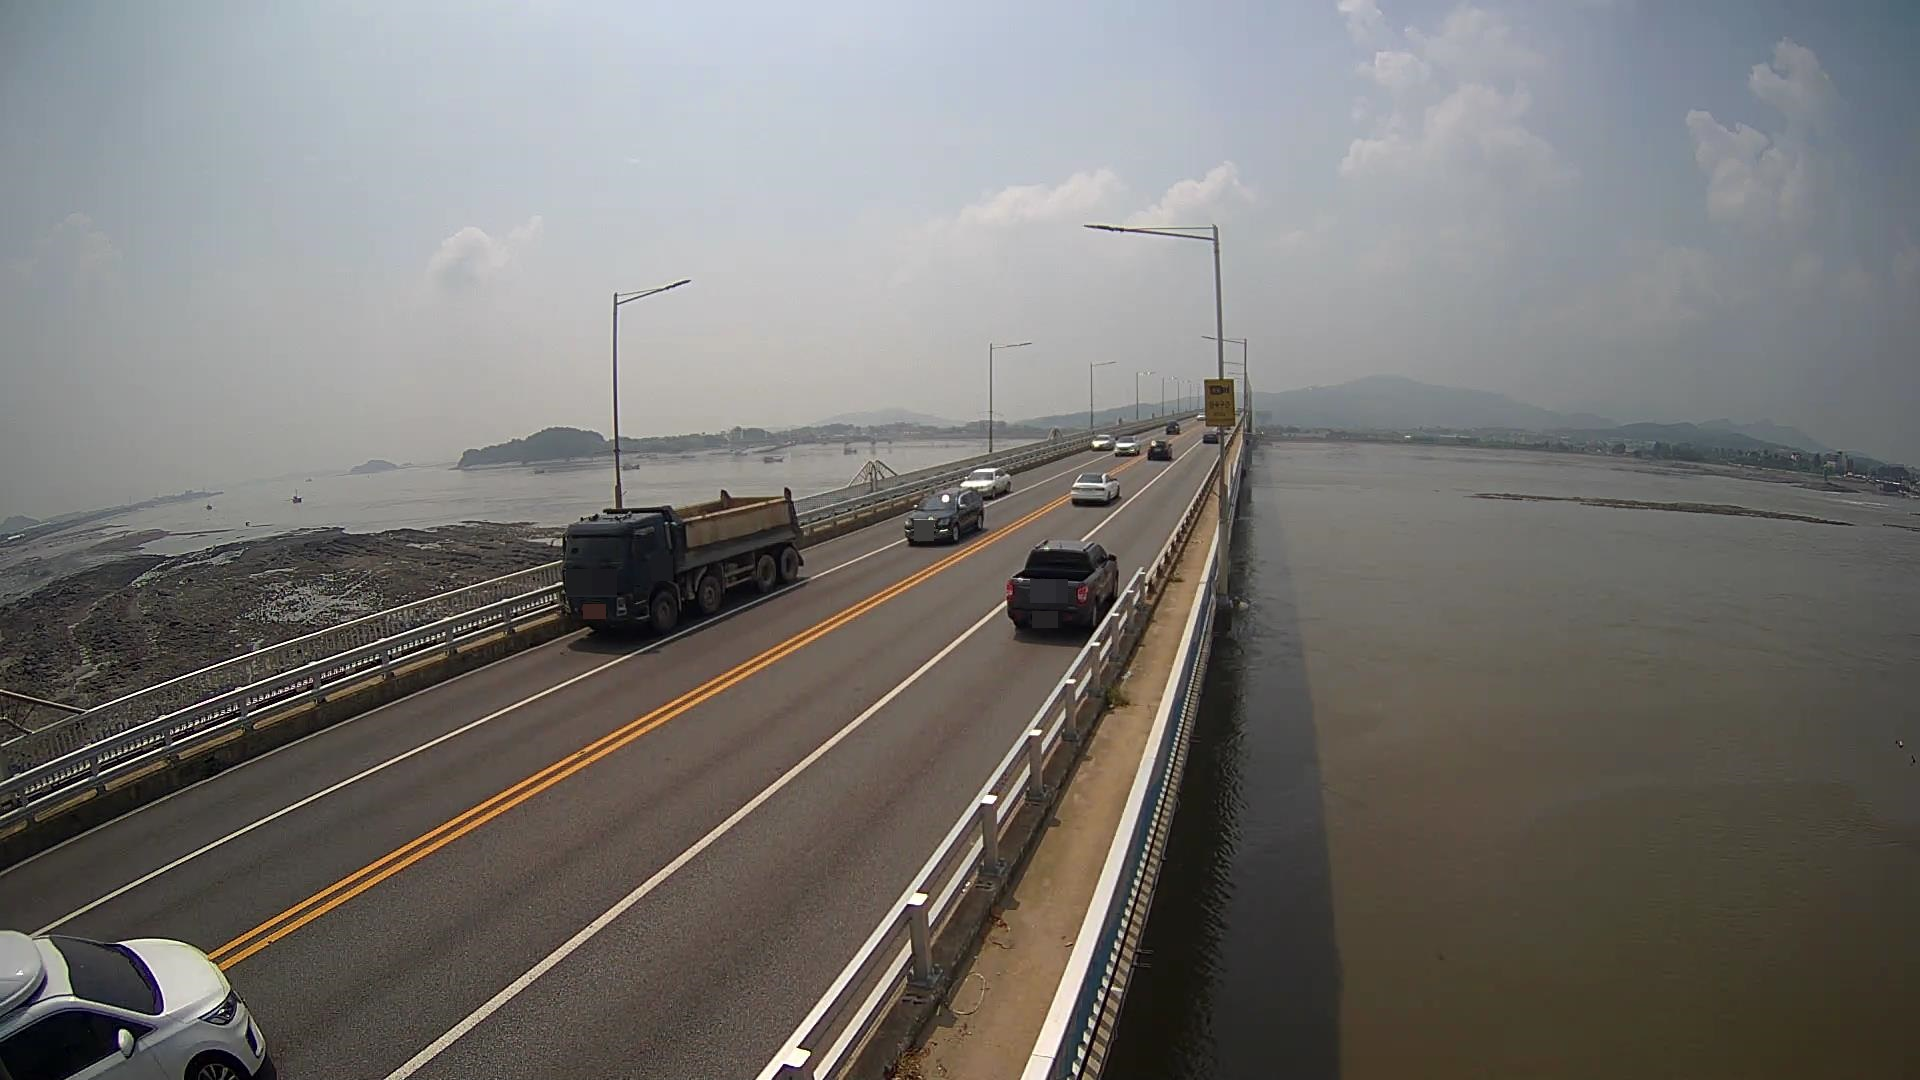정상차량: (550, 487, 804, 634)
